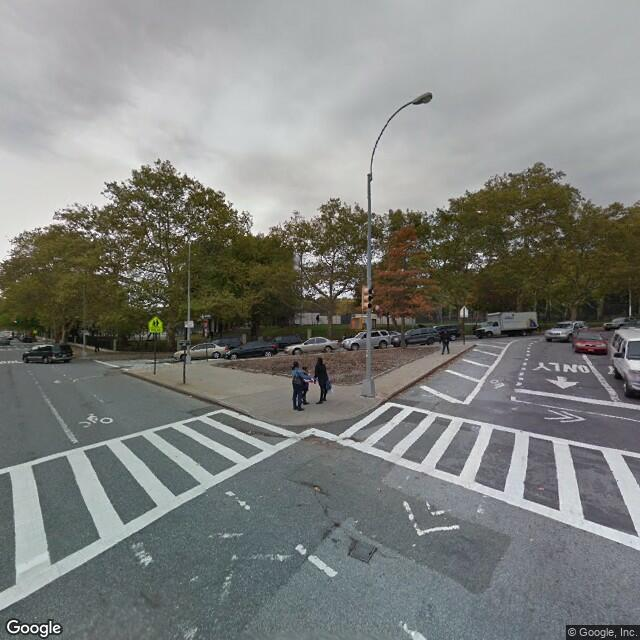litter: (312, 486, 320, 492)
